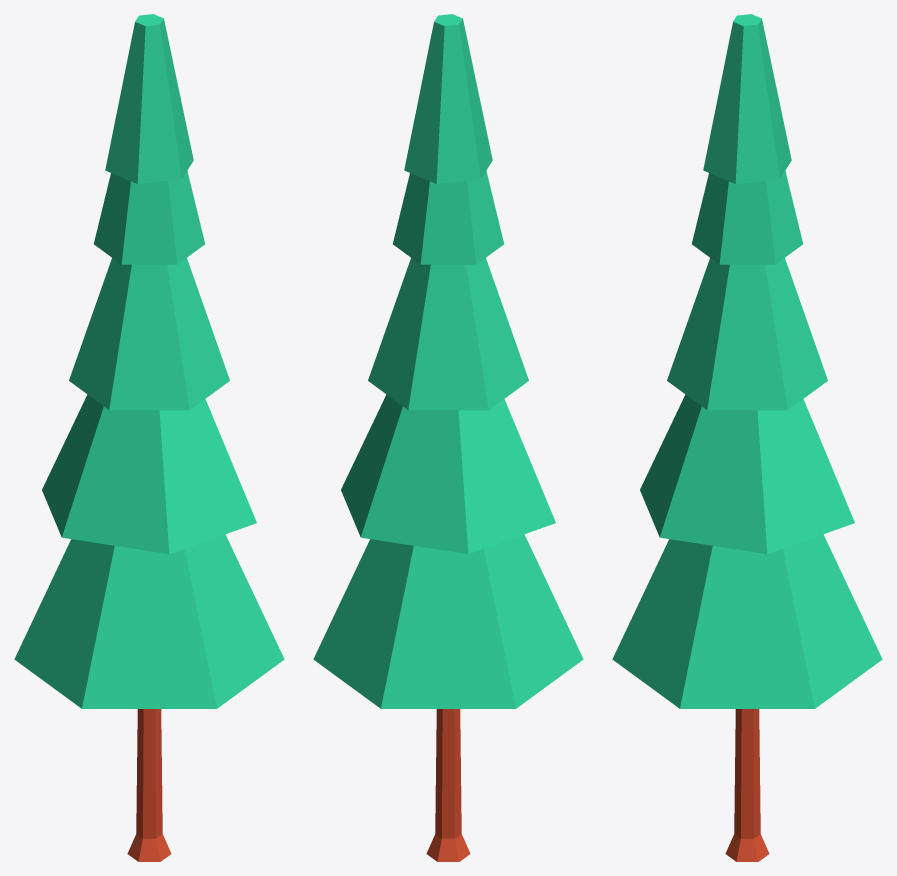
Rendered from SM_SpruceDebug.fbx.
The picture shows the model from 3 angles, left to right: view 1: azimuth 30°, elevation 25°; view 2: azimuth 150°, elevation 25°; view 3: azimuth 270°, elevation 25°; orthographic projection.
Parts seen in each view (by area): view 1: SM_SpruceDebug; view 2: SM_SpruceDebug; view 3: SM_SpruceDebug.
Part boxes in pixels (<box>): SM_SpruceDebug: <box>14,14,284,861</box>; SM_SpruceDebug: <box>313,14,583,861</box>; SM_SpruceDebug: <box>612,14,882,861</box>.
Size of what is drawn, in the model's own units: 430 by 1689 by 496.
